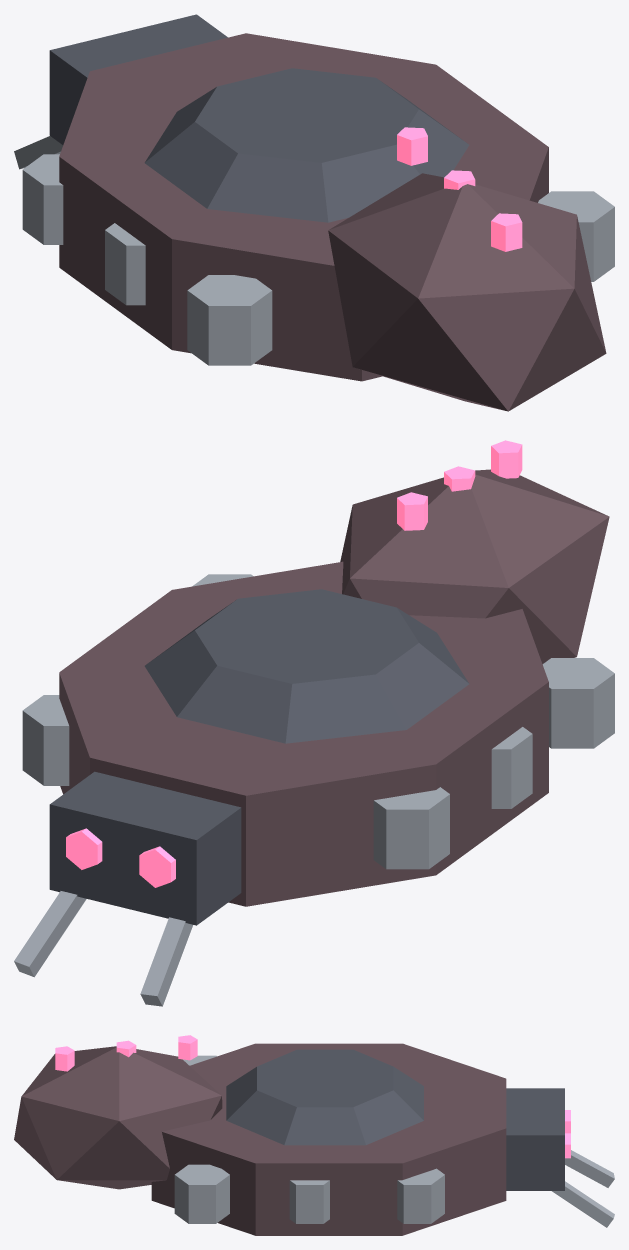
Rendered from aranha_corpo.glb.
The picture shows the model from 3 angles, top to bottom: view 1: azimuth 30°, elevation 25°; view 2: azimuth 150°, elevation 25°; view 3: azimuth 270°, elevation 25°; orthographic projection. The views are drawn at different scales.
Parts seen in each view (by area): view 1: aranha_corpo; view 2: aranha_corpo; view 3: aranha_corpo.
Part boxes in pixels (box(x1,y1,x2,y2)): aranha_corpo: box(14, 14, 614, 411); aranha_corpo: box(14, 440, 614, 1006); aranha_corpo: box(14, 1035, 614, 1235).
Size of the model in its own units: 0.9959 by 0.598 by 1.96.
